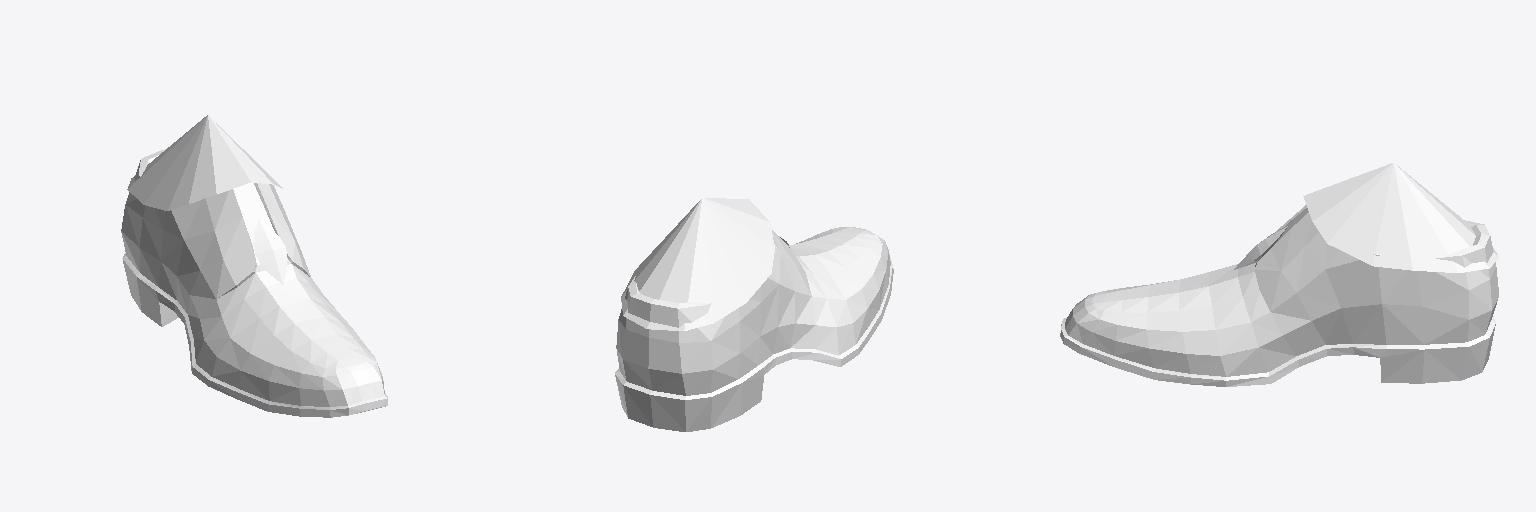
File: Blade_PieDer.obj
3 renders of one model, left to right at view 1: azimuth 30°, elevation 25°; view 2: azimuth 150°, elevation 25°; view 3: azimuth 270°, elevation 25°, orthographic.
Visible parts, largest first — view 1: Pie_Der; view 2: Pie_Der; view 3: Pie_Der.
Part boxes in pixels (left/top/right/bottom): Pie_Der: left=121, top=115, right=387, bottom=417; Pie_Der: left=615, top=198, right=893, bottom=431; Pie_Der: left=1060, top=163, right=1498, bottom=386.
Bounding box in the file's own units: 0.5162 × 0.6972 × 1.42.